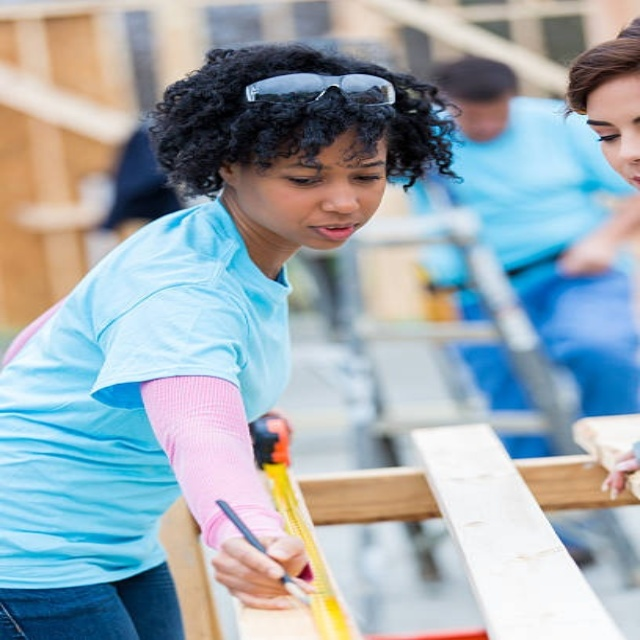Sin_gafas: (282, 156, 395, 189), (590, 107, 638, 147)
Sin_guantes: (207, 534, 322, 612), (595, 443, 635, 500)
Sin_mascara: (293, 216, 359, 247)
